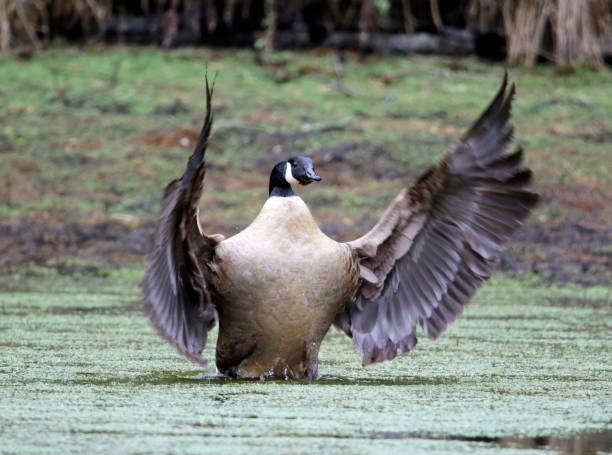Canadian-Goose: (141, 69, 529, 384)
